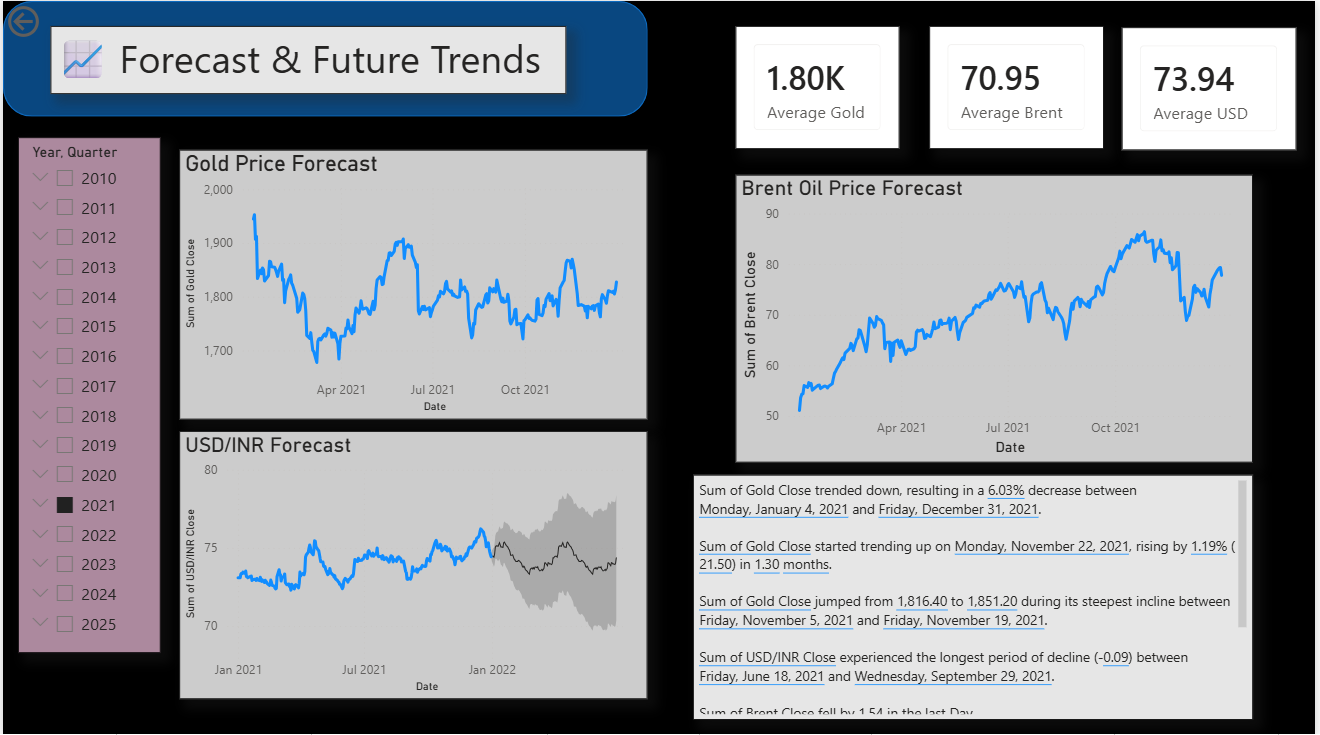

Layout of this report page (visuals, bound fields, positions):
{"tool":"powerbi","page":{"name":"Forecast & Future Trends","canvas":[1280,720],"ordinal":7},"visuals":[{"type":"shape","box":[0,0,629,112.8],"z":0},{"type":"textbox","box":[46.3,24.6,503.2,66.5],"z":1000},{"type":"slicer","fields":{"Values":["Date Table.Year","Date Table.Quarter"]},"box":[14.5,133,138.8,503.2],"z":2000},{"type":"actionButton","box":[0,0,100,40],"z":3000},{"type":"cardVisual","fields":{"Data":["Measures Table.Average Gold"]},"box":[714.3,24.6,160,120],"z":4000},{"type":"cardVisual","fields":{"Data":["Measures Table.Average Brent"]},"box":[903.8,24.6,170,120],"z":5000},{"type":"cardVisual","fields":{"Data":["Measures Table.Average USD"]},"box":[1092,25,170,120],"z":6000},{"type":"lineChart","title":"Gold Price Forecast","fields":{"Category":["Date Table.Date"],"Y":["Sum(daily_market_data.Gold Close)"]},"box":[172.1,144.6,456.9,263.2],"z":7000},{"type":"lineChart","title":"Brent Oil Price Forecast","fields":{"Y":["Sum(daily_market_data.Brent Close)"],"Category":["Date Table.Date"]},"box":[714.3,169.2,504.7,280.5],"z":8000},{"type":"lineChart","title":"USD/INR Forecast","fields":{"Category":["Date Table.Date"],"Y":["Sum(daily_market_data.USD/INR Close)"]},"box":[172.5,419.6,456.8,261.9],"z":9000},{"type":"textbox","box":[672.8,461.8,546.2,239.6],"z":10000}]}

Visuals, with their boxes in screenshot pixels (x1, y1, x2, y2), scaled from the page's 1280x720 canvas onto the 1320x735 screenshot:
shape: pyautogui.locateOnScreen(0, 0, 649, 115)
textbox: pyautogui.locateOnScreen(48, 25, 567, 93)
slicer - Date Table.Year x Date Table.Quarter: pyautogui.locateOnScreen(15, 136, 158, 649)
actionButton: pyautogui.locateOnScreen(0, 0, 103, 41)
cardVisual - Measures Table.Average Gold: pyautogui.locateOnScreen(737, 25, 902, 148)
cardVisual - Measures Table.Average Brent: pyautogui.locateOnScreen(932, 25, 1107, 148)
cardVisual - Measures Table.Average USD: pyautogui.locateOnScreen(1126, 26, 1301, 148)
"Gold Price Forecast" lineChart: pyautogui.locateOnScreen(177, 148, 649, 416)
"Brent Oil Price Forecast" lineChart: pyautogui.locateOnScreen(737, 173, 1257, 459)
"USD/INR Forecast" lineChart: pyautogui.locateOnScreen(178, 428, 649, 696)
textbox: pyautogui.locateOnScreen(694, 471, 1257, 716)
